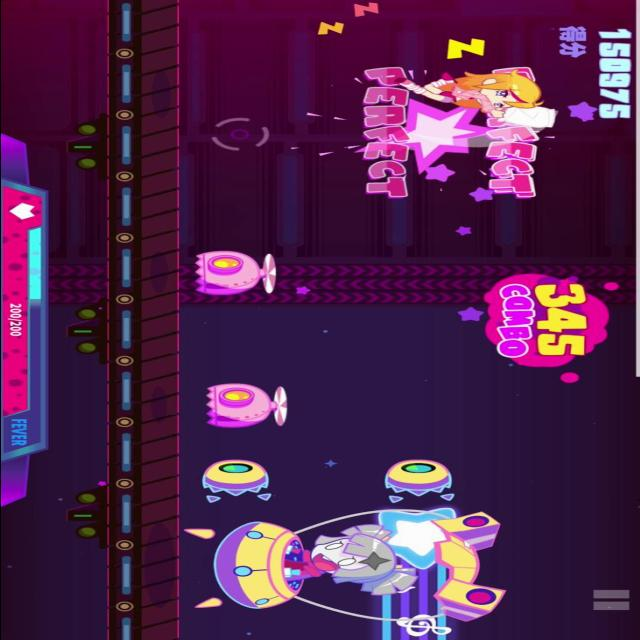jiqiqiu: (202, 384, 290, 430), (193, 250, 275, 298)
qiangboss: (175, 462, 511, 628)
